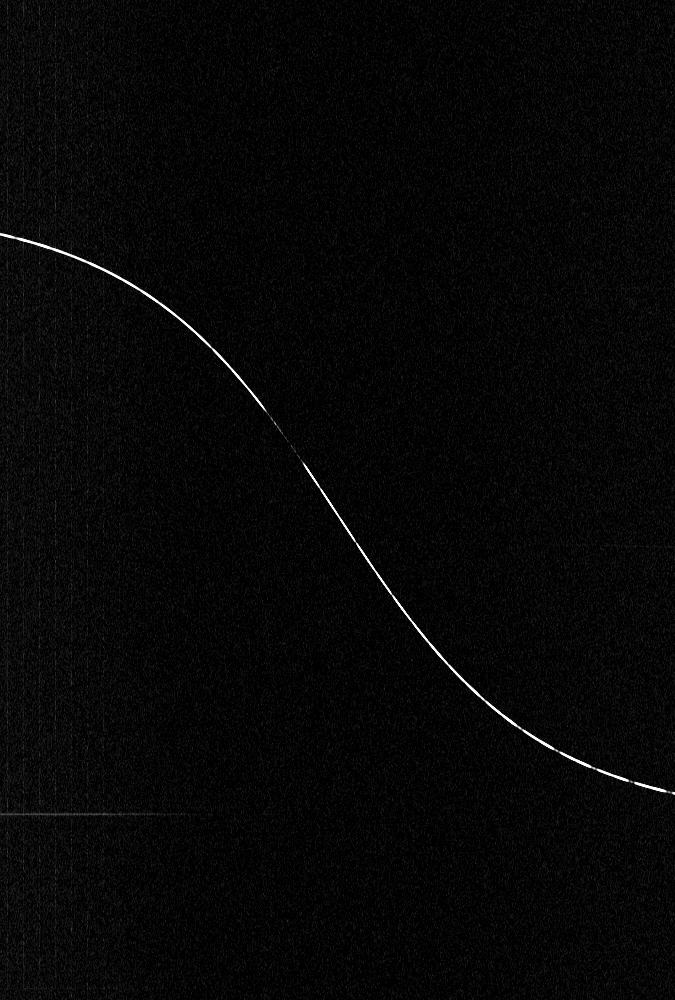signal: (0, 0, 674, 999)
